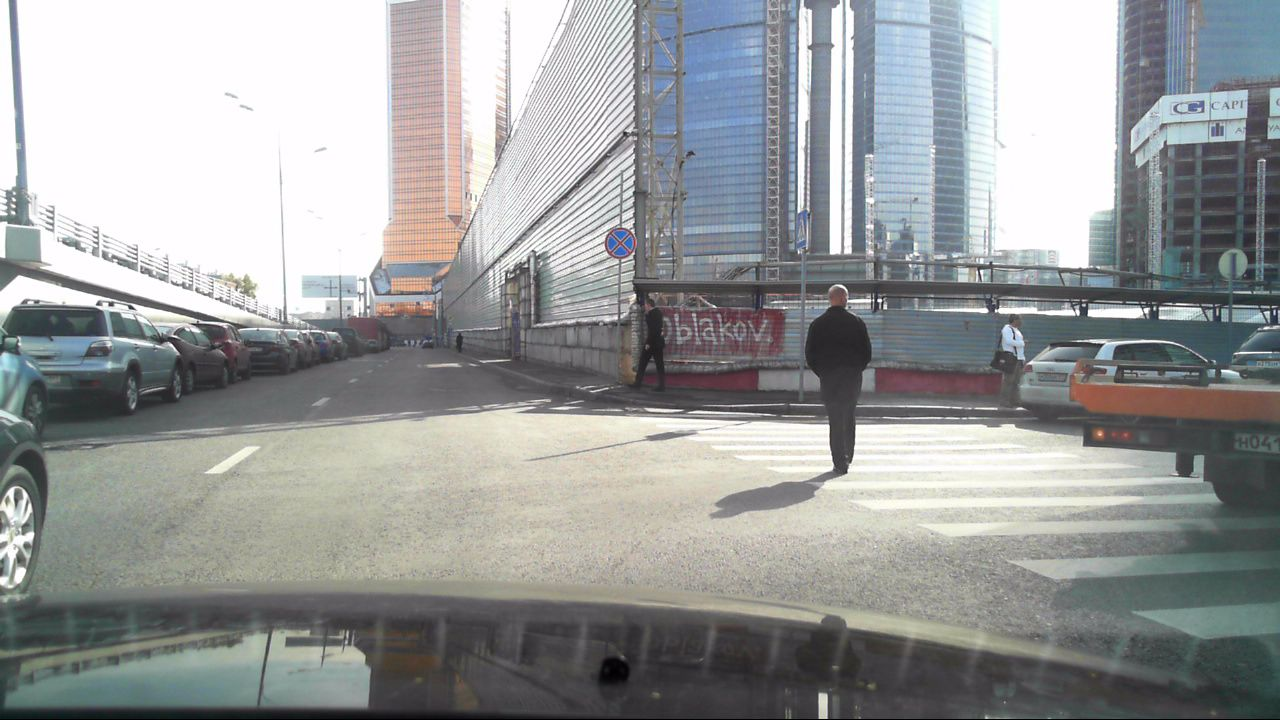No Parking: (605, 229, 635, 259)
